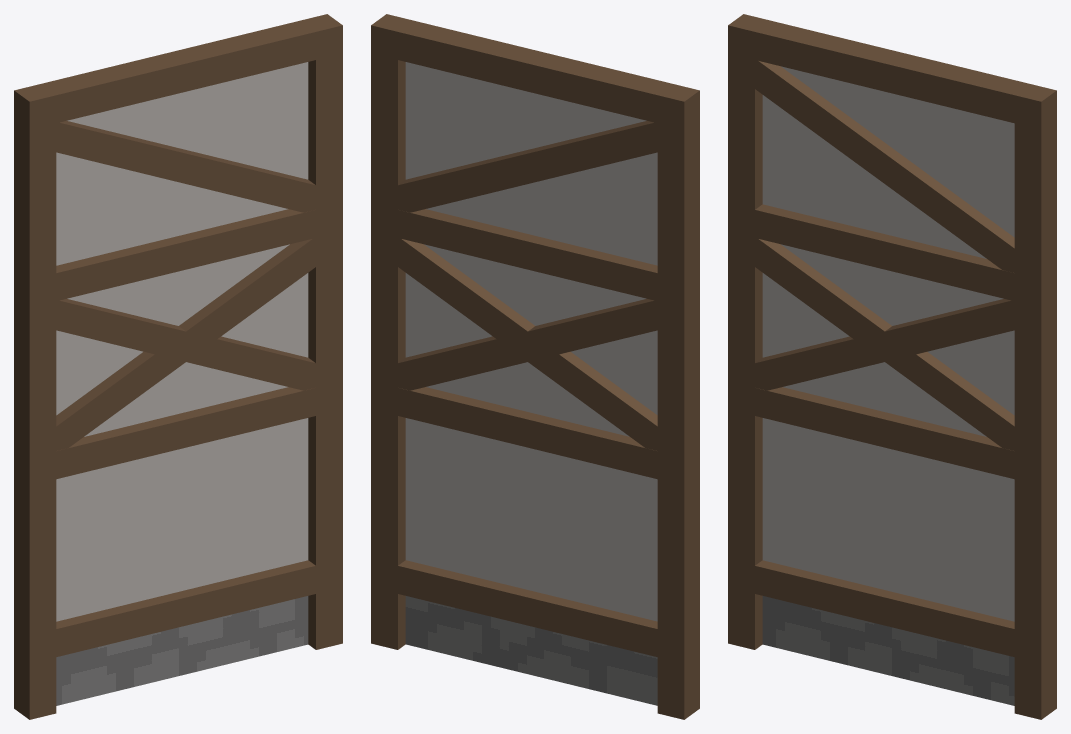
File: wall_0.gltf
3 renders of one model, left to right at view 1: azimuth 30°, elevation 25°; view 2: azimuth 150°, elevation 25°; view 3: azimuth 330°, elevation 25°, orthographic.
Visible parts, largest first — view 1: cube (×26); view 2: cube (×26); view 3: cube (×26).
Boxes of the visible parts, bbox=[...] form: cube (×26): bbox=[14, 14, 342, 719]; cube (×26): bbox=[371, 14, 699, 719]; cube (×26): bbox=[728, 14, 1056, 719].
Size of the model in its own units: 2.19 by 4.12 by 0.1875.
Materials: 1 (1 with a texture image).
